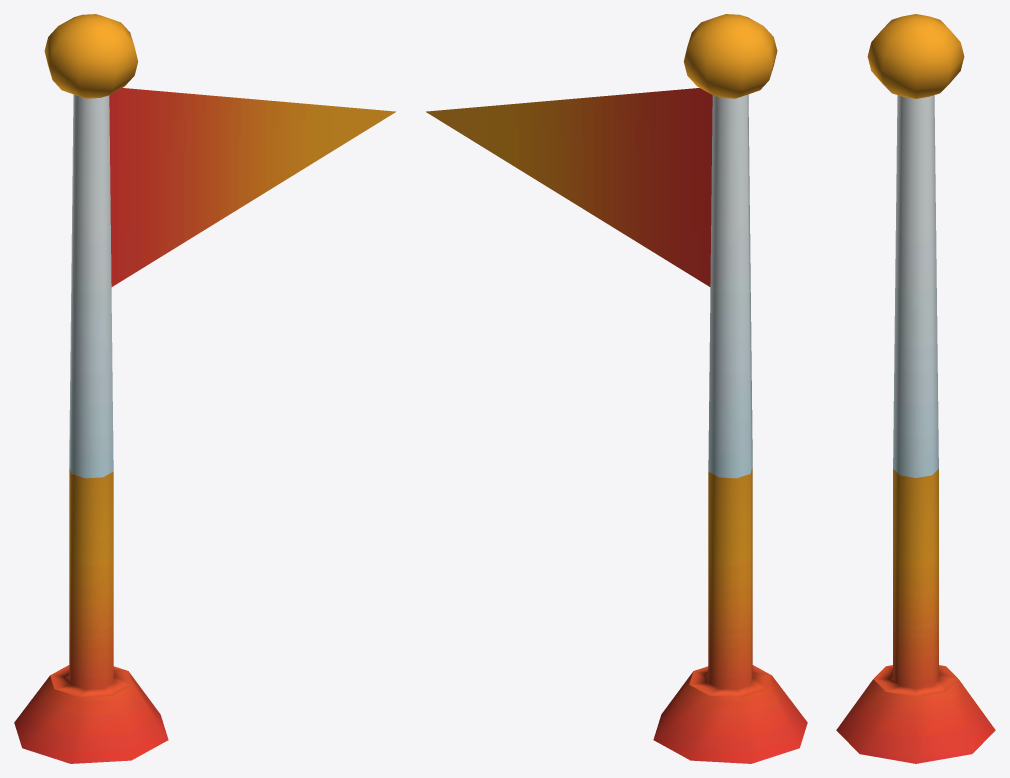
Rendered from flag.fbx.
The picture shows the model from 3 angles, left to right: view 1: azimuth 30°, elevation 25°; view 2: azimuth 150°, elevation 25°; view 3: azimuth 270°, elevation 25°; orthographic projection.
Visible parts, largest first — view 1: pPlane2; view 2: pPlane2; view 3: pPlane2.
Part boxes in pixels (x1=…): pPlane2: x1=14, y1=14, x2=395, y2=763; pPlane2: x1=426, y1=14, x2=807, y2=763; pPlane2: x1=836, y1=14, x2=995, y2=763.
Bounding box in the file's own units: 176 × 321 × 65.18.
Materials: 1 (1 with a texture image).
